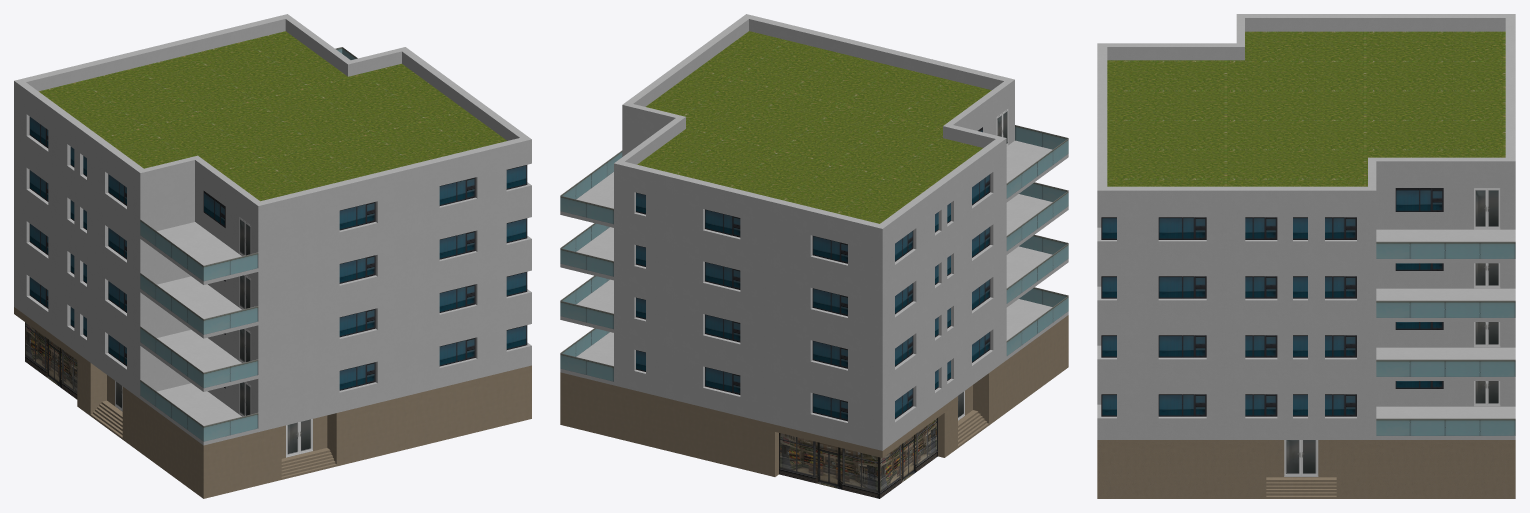
File: SM_DemoBuilding_3_A.fbx
3 views of the same model, side by side, from view 1: azimuth 30°, elevation 25°; view 2: azimuth 150°, elevation 25°; view 3: azimuth 270°, elevation 25° (orthographic). The views are drawn at different scales.
Parts seen in each view (by area): view 1: SM_DemoBuilding_3_A_LOD0; view 2: SM_DemoBuilding_3_A_LOD0; view 3: SM_DemoBuilding_3_A_LOD0.
Boxes of the visible parts, x1=… form: SM_DemoBuilding_3_A_LOD0: x1=14, y1=14, x2=531, y2=498; SM_DemoBuilding_3_A_LOD0: x1=560, y1=14, x2=1068, y2=498; SM_DemoBuilding_3_A_LOD0: x1=1097, y1=14, x2=1515, y2=498.
Size of what is drawn, in the model's own units: 28.8 by 23.43 by 28.8.
